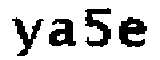5: (79, 7, 112, 49)
a: (50, 16, 80, 53)
e: (119, 15, 148, 49)
y: (10, 14, 43, 60)
